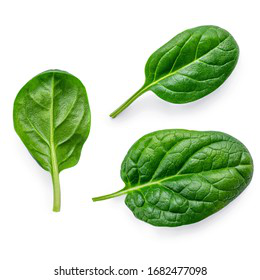Bayam: (13, 20, 243, 227)
